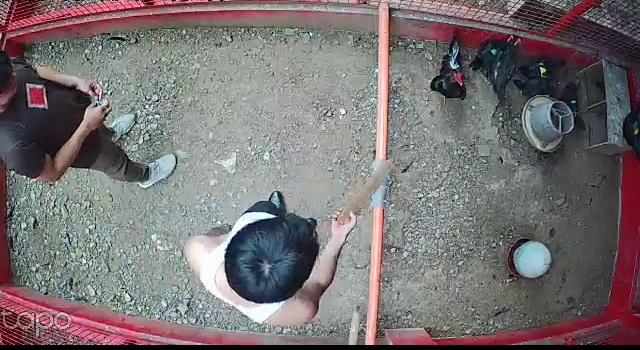Chicken: (483, 36, 522, 105), (515, 51, 569, 87), (468, 34, 515, 75), (556, 75, 587, 133), (612, 98, 640, 161), (509, 76, 563, 97)
Drinker: (505, 239, 554, 280)
Rooster: (429, 33, 467, 109)
Saddle_Color_Yellow: (540, 68, 546, 78)
Saddle_Color_YellowGreen: (633, 123, 640, 134)
